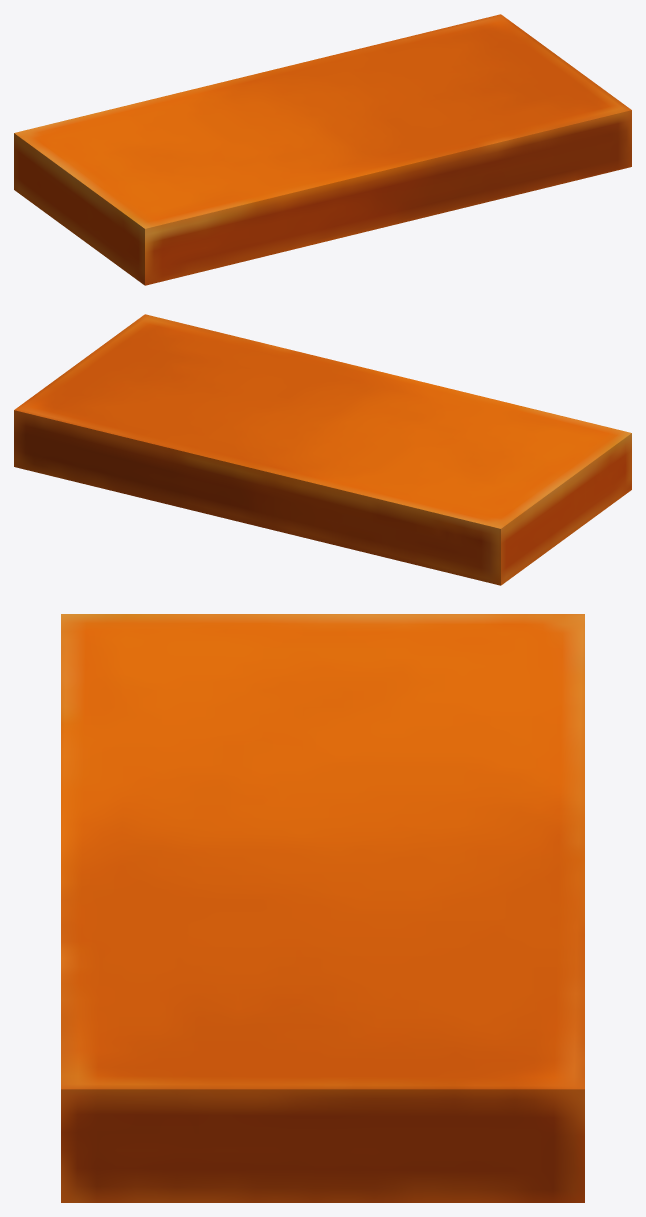
Rendered from brick.FBX.
3 views of the same model, one above another, from view 1: azimuth 30°, elevation 25°; view 2: azimuth 150°, elevation 25°; view 3: azimuth 270°, elevation 25° (orthographic). The views are drawn at different scales.
Parts seen in each view (by area): view 1: 对象001; view 2: 对象001; view 3: 对象001.
Boxes of the visible parts, x1,y1,x2,y2 form: 对象001: (14,14,631,285); 对象001: (14,314,631,585); 对象001: (61,614,584,1202).
Size of the model in its own units: 0.8954 by 0.0998 by 0.4173.
1 material, 1 textured.
